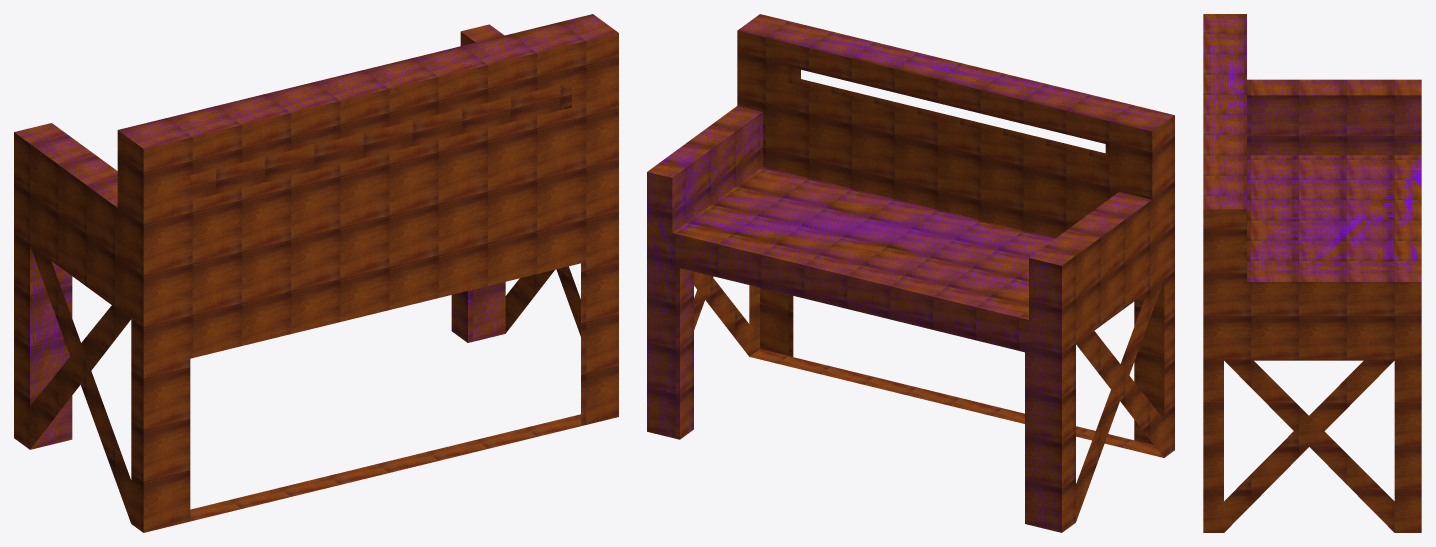
The picture shows the model from 3 angles, left to right: view 1: azimuth 30°, elevation 25°; view 2: azimuth 150°, elevation 25°; view 3: azimuth 270°, elevation 25°; orthographic projection. The views are drawn at different scales.
Parts seen in each view (by area): view 1: mesh1_mesh1-geometry; view 2: mesh1_mesh1-geometry; view 3: mesh1_mesh1-geometry.
Boxes of the visible parts, <box> form: mesh1_mesh1-geometry: <box>14,14,618,532</box>; mesh1_mesh1-geometry: <box>647,14,1174,532</box>; mesh1_mesh1-geometry: <box>1203,14,1421,532</box>.
Bounding box in the file's own units: 0.7416 × 0.5723 × 0.3499.
